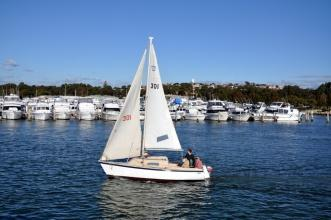fanchuan: (92, 35, 228, 187)
